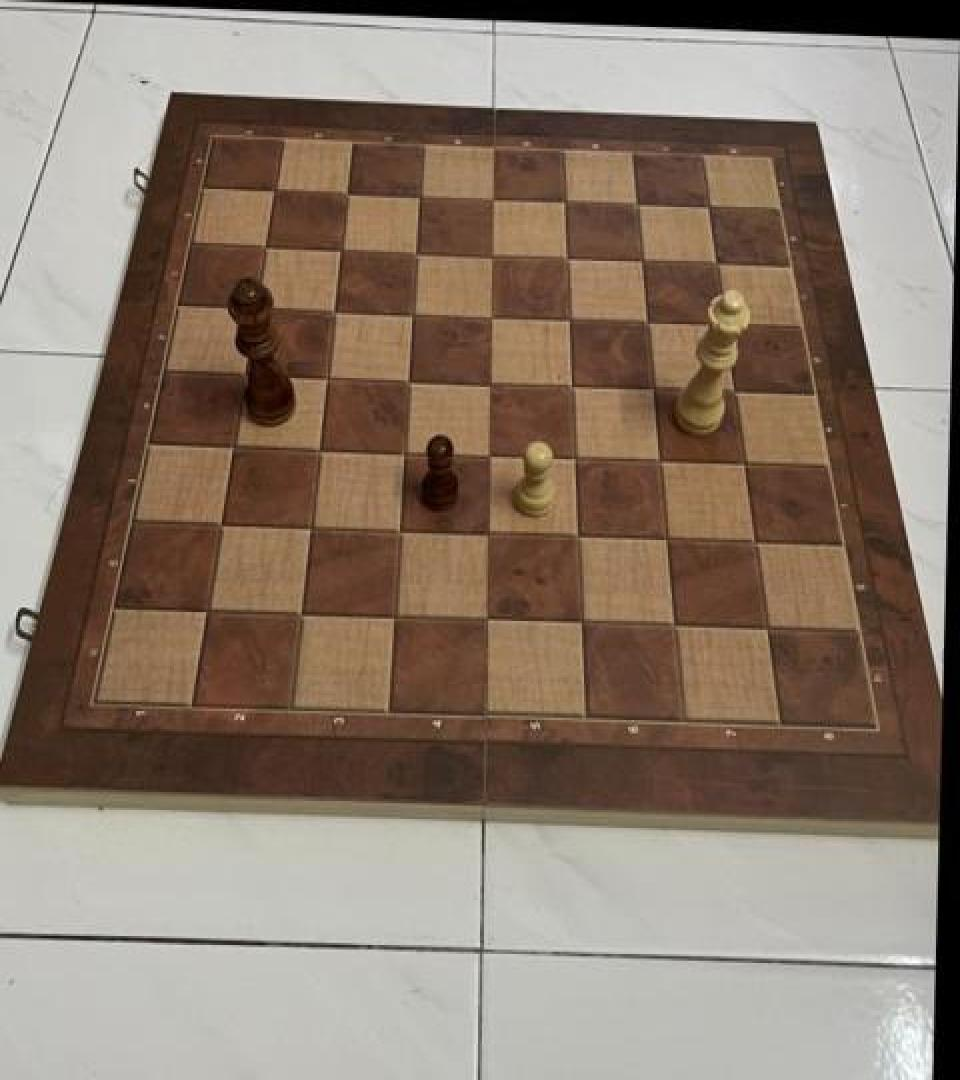xcorner: (692, 188, 724, 224), (548, 182, 580, 218), (476, 180, 508, 216), (404, 176, 436, 212), (332, 174, 364, 210), (260, 172, 292, 208), (700, 244, 732, 280), (626, 242, 658, 278), (551, 238, 583, 274), (476, 236, 508, 272), (401, 234, 433, 270), (326, 230, 358, 266), (251, 228, 283, 264), (709, 306, 741, 342), (631, 302, 663, 338), (553, 300, 585, 336), (476, 297, 508, 333), (398, 295, 430, 331), (319, 292, 351, 328), (241, 289, 273, 325), (718, 372, 750, 408), (637, 369, 669, 405), (556, 367, 588, 403), (475, 364, 507, 400), (394, 361, 426, 397), (312, 358, 344, 394), (231, 356, 263, 392), (729, 444, 761, 480), (644, 442, 676, 478), (559, 439, 591, 475), (475, 436, 507, 472), (390, 433, 422, 469), (305, 430, 337, 466), (219, 428, 251, 464), (740, 523, 772, 559), (651, 521, 683, 557), (563, 518, 595, 554), (474, 514, 506, 550), (385, 512, 417, 548), (296, 508, 328, 544), (207, 506, 239, 542), (752, 610, 784, 646), (659, 608, 691, 644), (567, 604, 599, 640), (474, 601, 506, 637), (380, 598, 412, 634), (287, 595, 319, 631), (193, 592, 225, 628), (620, 186, 652, 221)
